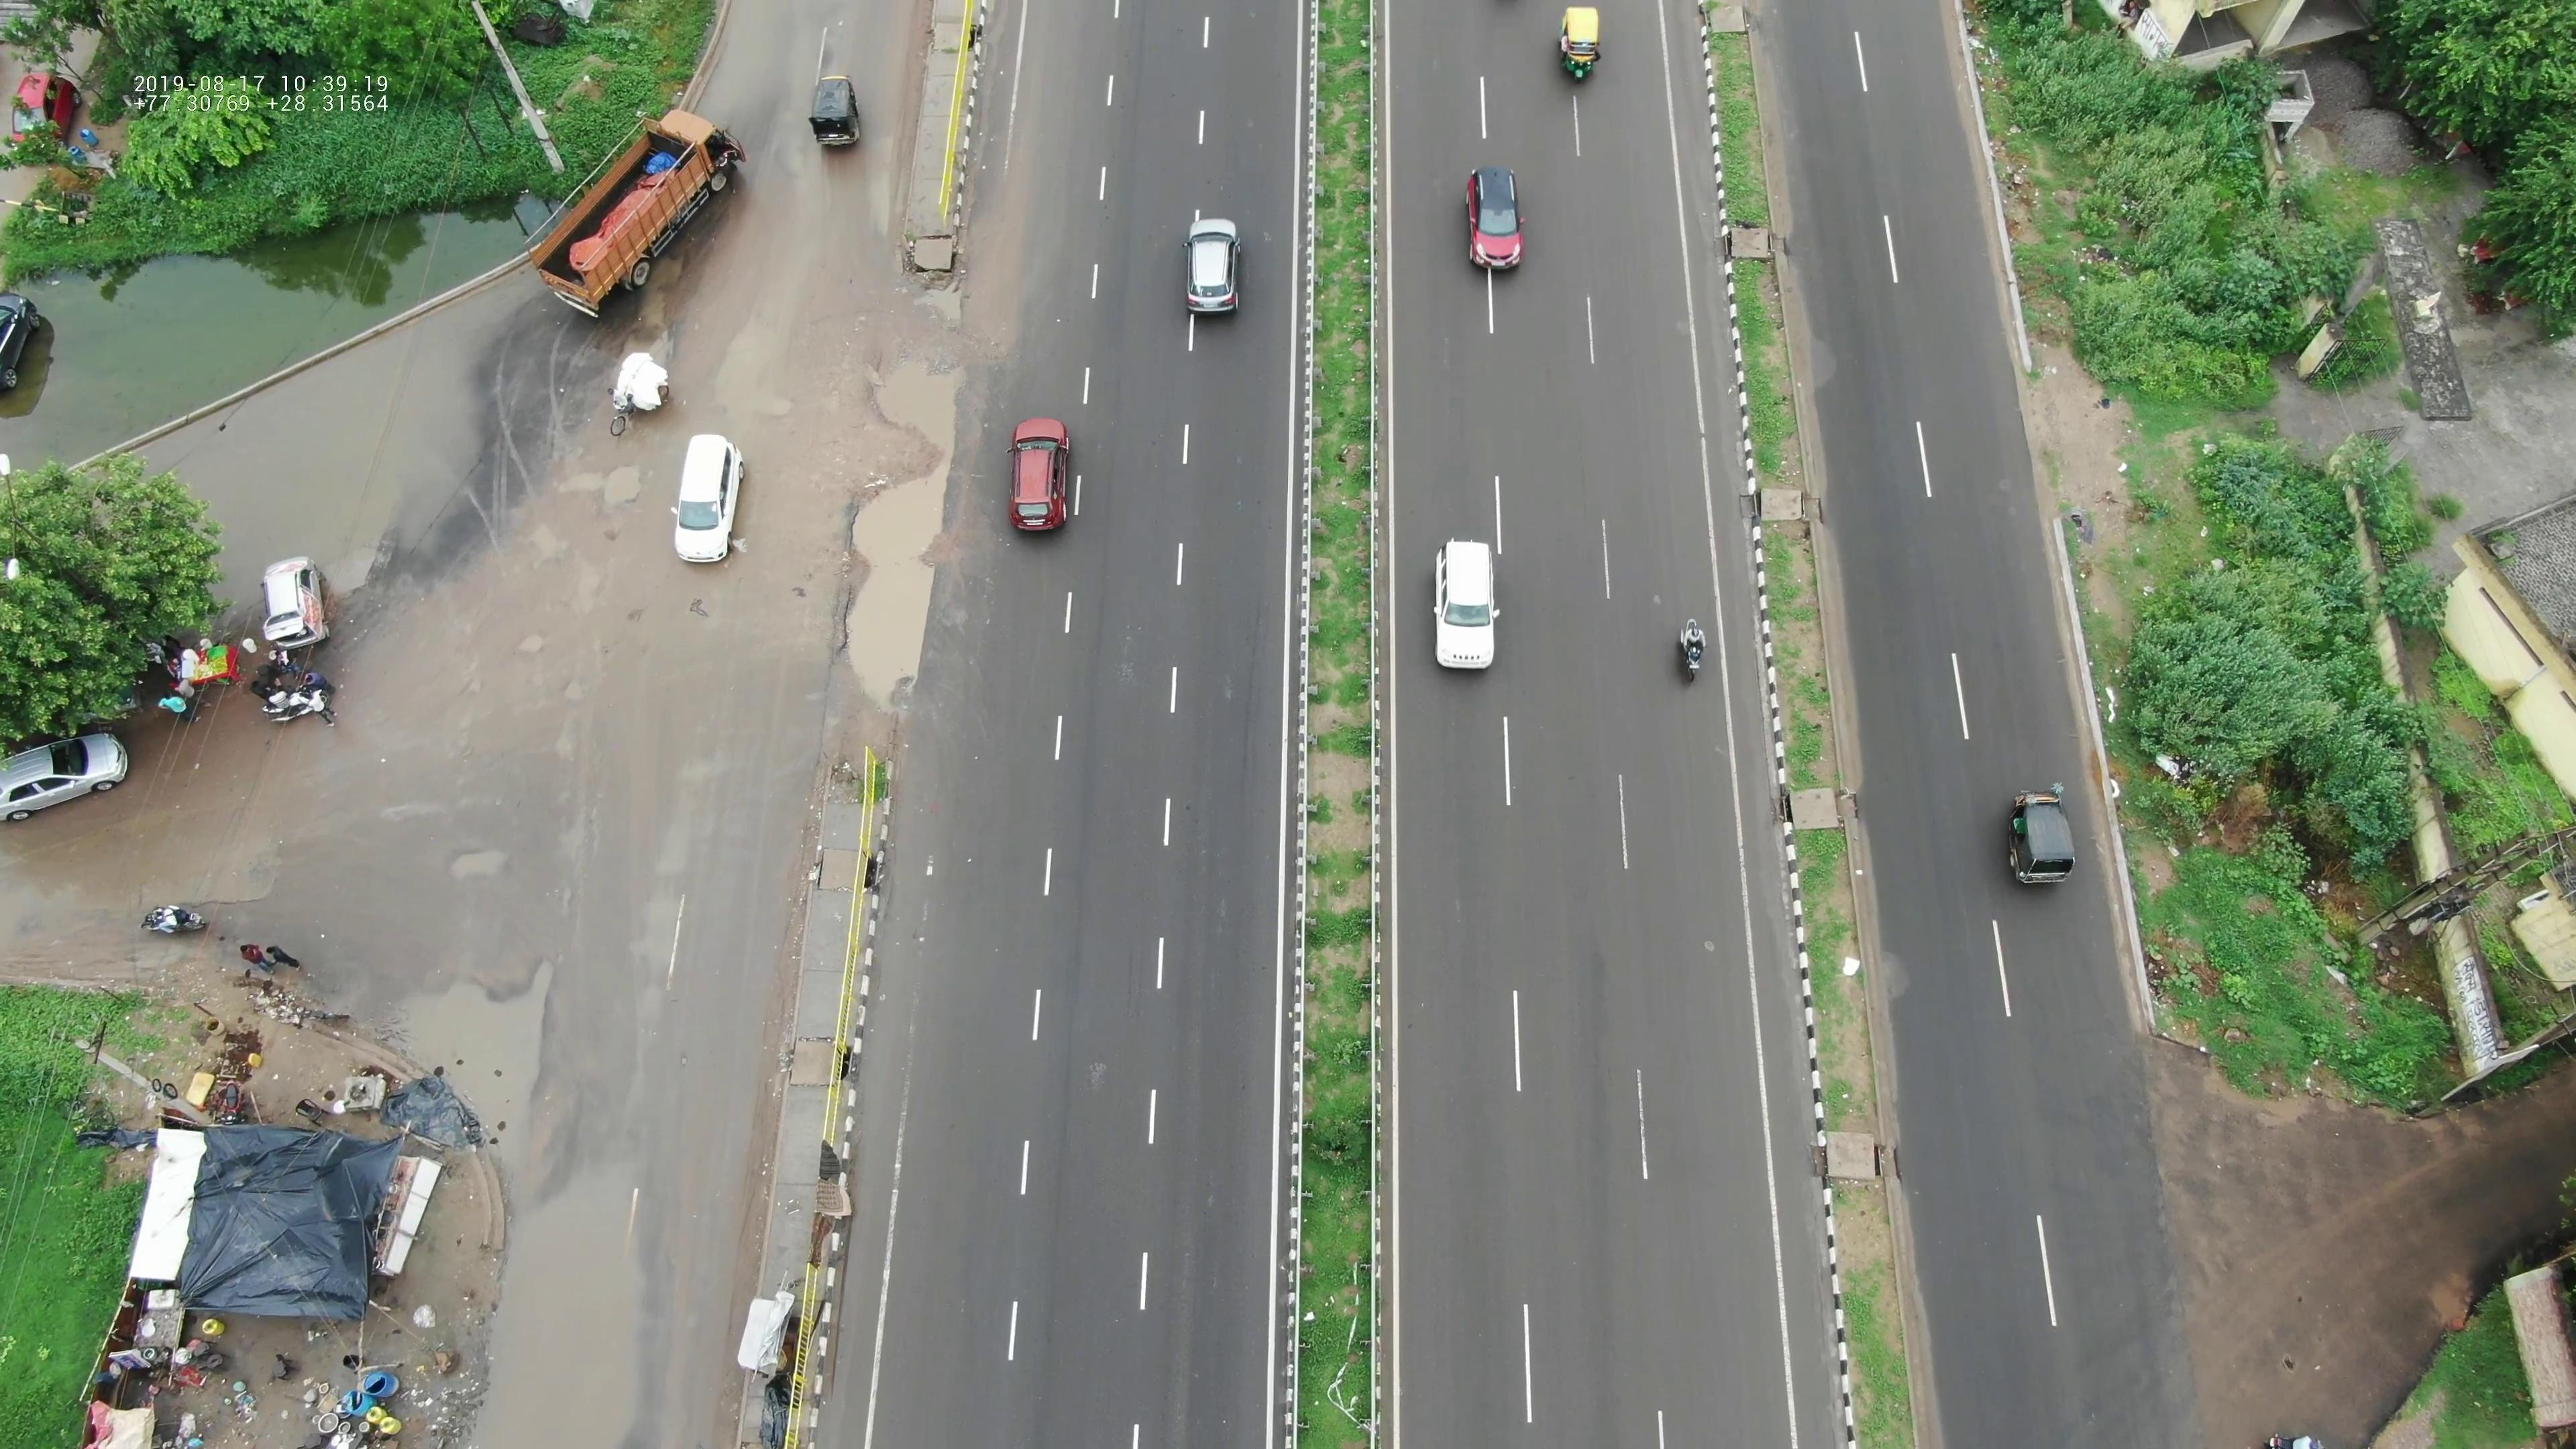Potholes: (810, 352, 970, 702), (497, 425, 649, 646), (425, 715, 594, 906), (591, 264, 701, 380), (897, 283, 1019, 333)
Waterlogging: (472, 1131, 681, 1440), (357, 950, 584, 1157)
